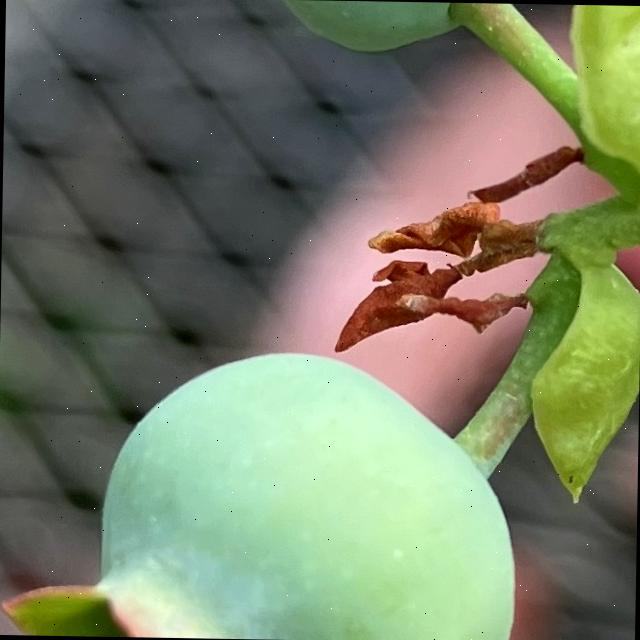Blueberries: (4, 340, 526, 640)
